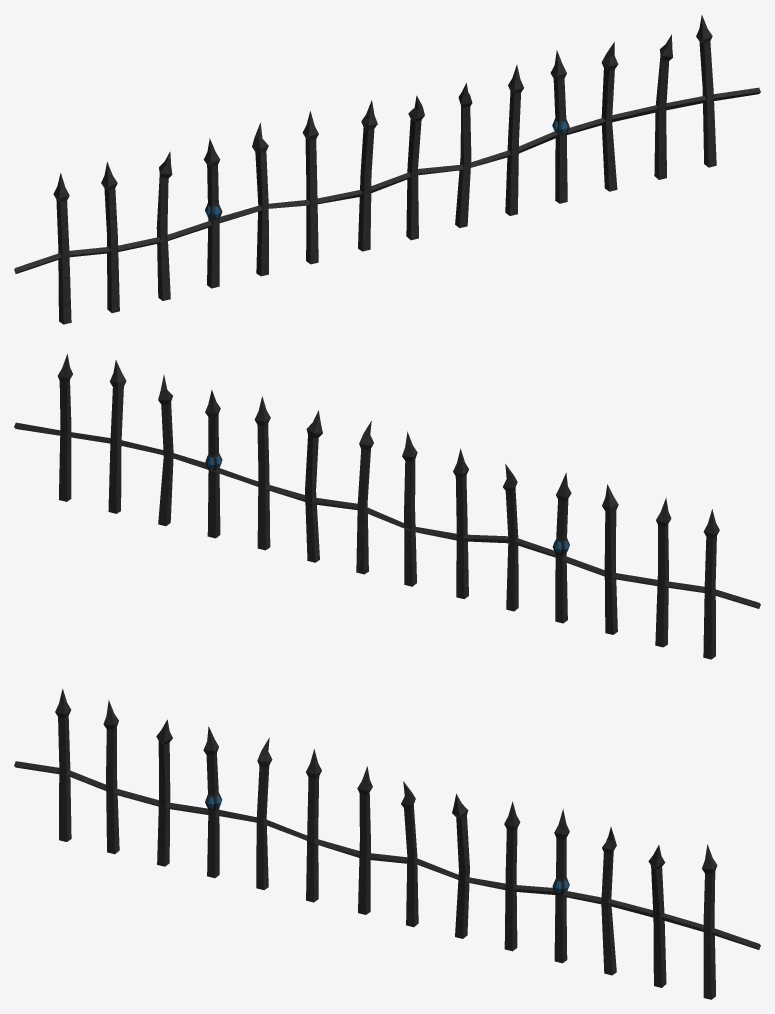
The model's file is SpikeFenceB.dae.
3 renders of one model, top to bottom at view 1: azimuth 30°, elevation 25°; view 2: azimuth 150°, elevation 25°; view 3: azimuth 330°, elevation 25°, orthographic.
Parts seen in each view (by area): view 1: SpikeFenceB; view 2: SpikeFenceB; view 3: SpikeFenceB.
Part boxes in pixels (left/top/right/bottom): SpikeFenceB: left=14, top=15, right=760, bottom=324; SpikeFenceB: left=14, top=353, right=760, bottom=659; SpikeFenceB: left=14, top=689, right=760, bottom=999.
Size of what is drawn, in the model's own units: 1497 by 289 by 50.3.
